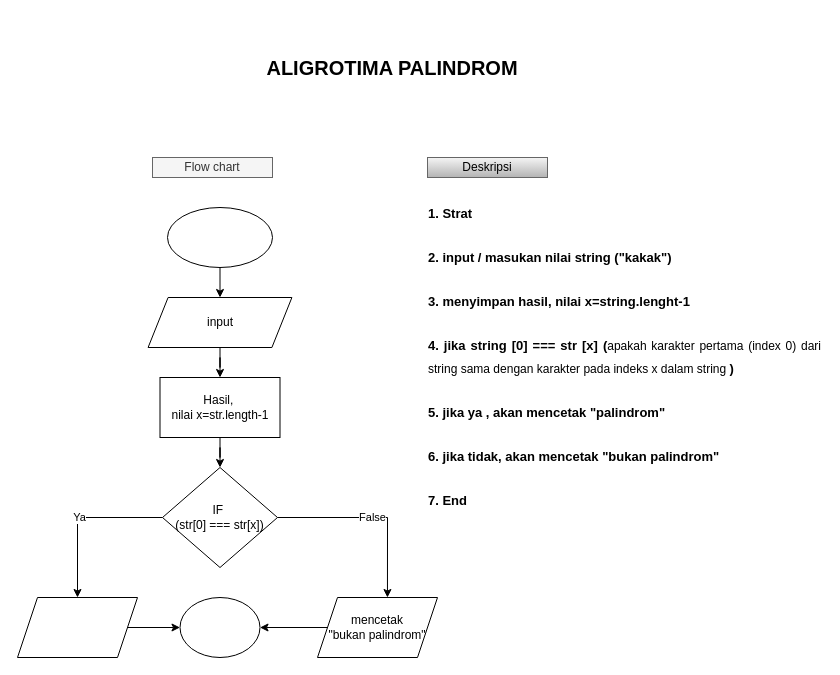
The diagram is 840 pixels wide and 675 high, and some of its shapes have lost their labels. The box of each missing label's shape, as (x1, y1, x2, y2) in pixels:
End: (179, 596, 260, 658)
mencetak "palindrom": (16, 596, 138, 658)
Start: (166, 206, 272, 268)
